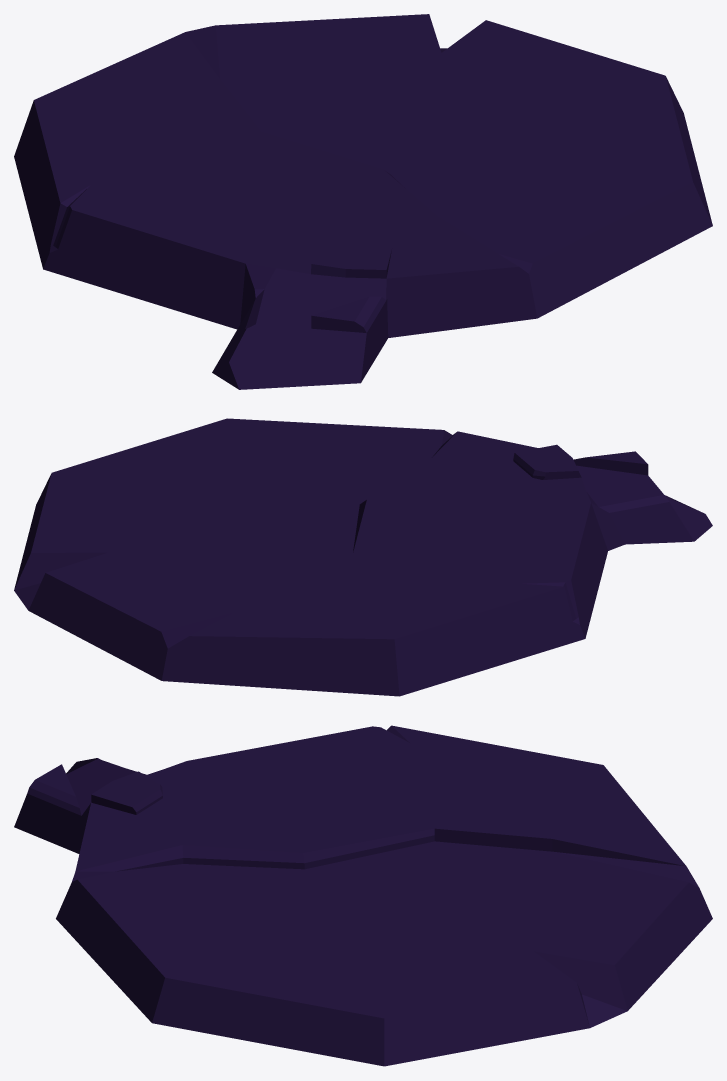
File: ground_001_grp.fbx
3 views of the same model, one above another, from view 1: azimuth 30°, elevation 25°; view 2: azimuth 150°, elevation 25°; view 3: azimuth 270°, elevation 25° (orthographic). The views are drawn at different scales.
Visible parts, largest first — view 1: ground_001_grp; view 2: ground_001_grp; view 3: ground_001_grp.
Boxes of the visible parts, x1,y1,x2,y2 form: ground_001_grp: (14,14,712,389); ground_001_grp: (14,418,712,696); ground_001_grp: (14,725,712,1066).
Bounding box in the file's own units: 100 × 10 × 100.
